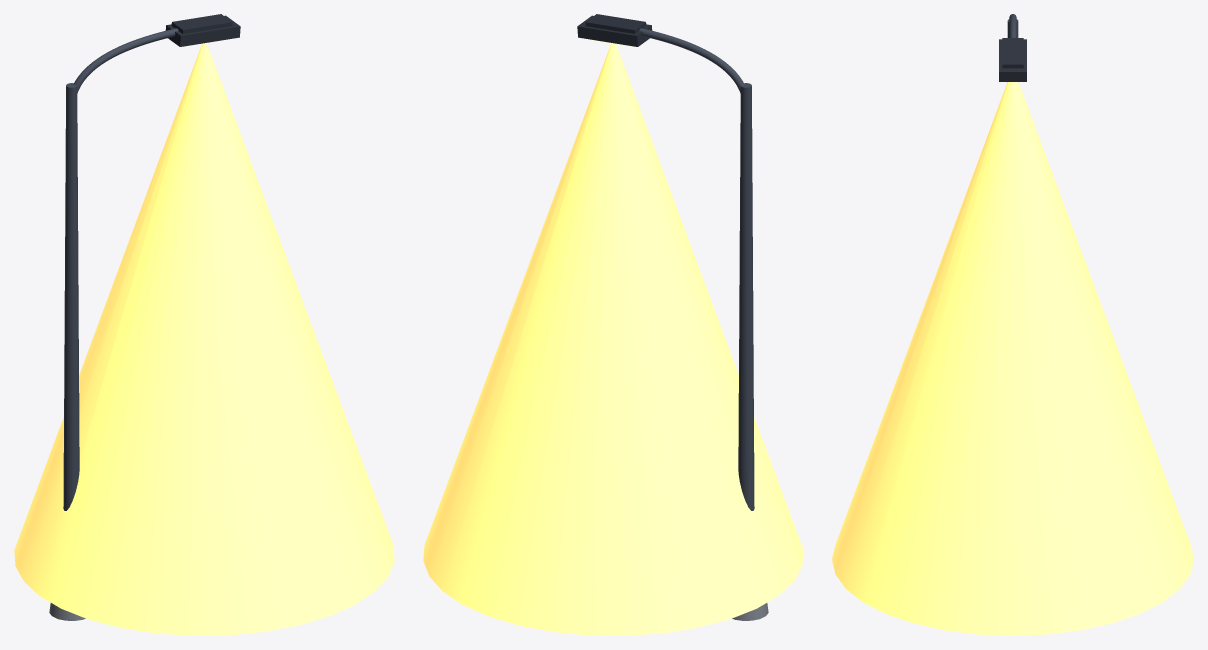
The model's file is poste-aceso.glb.
3 renders of one model, left to right at view 1: azimuth 30°, elevation 25°; view 2: azimuth 150°, elevation 25°; view 3: azimuth 270°, elevation 25°, orthographic. The views are drawn at different scales.
Visible parts, largest first — view 1: Poste_ConeLuz, Poste_Haste, Luminaria_Carcaca, Poste_Braco, Luminaria_Topo; view 2: Poste_ConeLuz, Poste_Haste, Luminaria_Carcaca, Poste_Braco, Luminaria_Topo; view 3: Poste_ConeLuz, Luminaria_Topo, Luminaria_Carcaca.
Part boxes in pixels (x1,y1,x2,y2): Poste_ConeLuz: (14,43,394,635); Poste_Haste: (63,83,79,510); Luminaria_Carcaca: (165,15,240,46); Poste_Braco: (73,28,178,93); Luminaria_Topo: (171,14,232,33); Poste_ConeLuz: (423,43,803,635); Poste_Haste: (738,83,754,510); Luminaria_Carcaca: (577,15,652,46); Poste_Braco: (639,28,744,93); Luminaria_Topo: (585,14,646,33); Poste_ConeLuz: (832,82,1193,635); Luminaria_Topo: (1002,38,1023,68); Luminaria_Carcaca: (999,39,1026,81).
Bounding box in the file's own units: 4.4 × 7.13 × 4.4.
